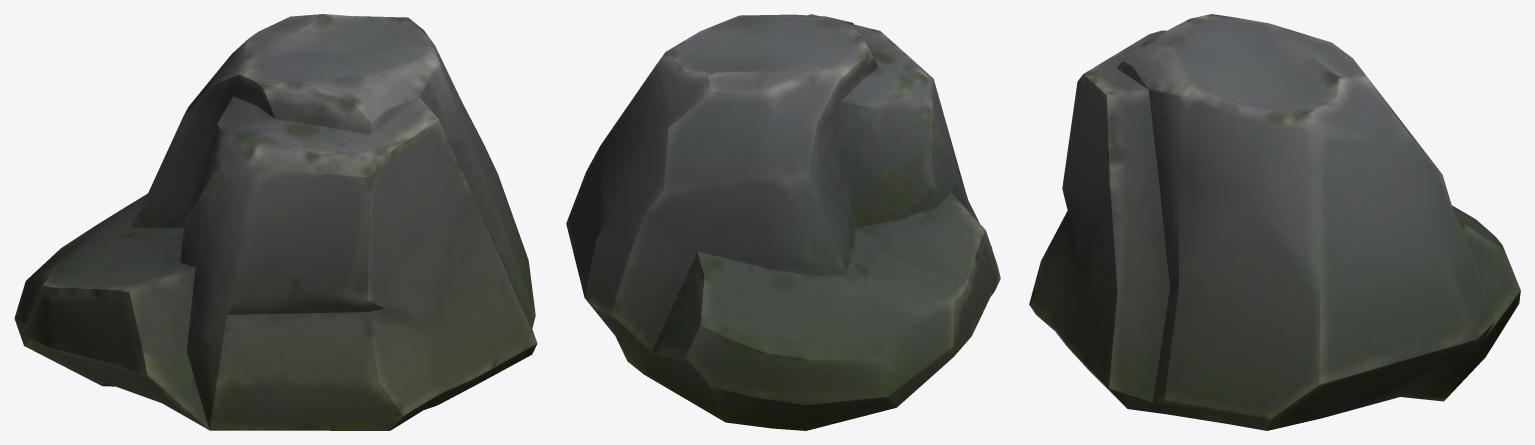
Rendered from Rock_Medium_1.gltf.
3 views of the same model, side by side, from view 1: azimuth 30°, elevation 25°; view 2: azimuth 150°, elevation 25°; view 3: azimuth 270°, elevation 25° (orthographic). The views are drawn at different scales.
Parts seen in each view (by area): view 1: Rock_Medium_1; view 2: Rock_Medium_1; view 3: Rock_Medium_1.
Part boxes in pixels (x1,y1,x2,y2): Rock_Medium_1: (14,14,537,430); Rock_Medium_1: (566,14,1000,430); Rock_Medium_1: (1029,14,1520,430).
Bounding box in the file's own units: 3.23 × 2.26 × 2.99.
Materials: 1 (1 with a texture image).
